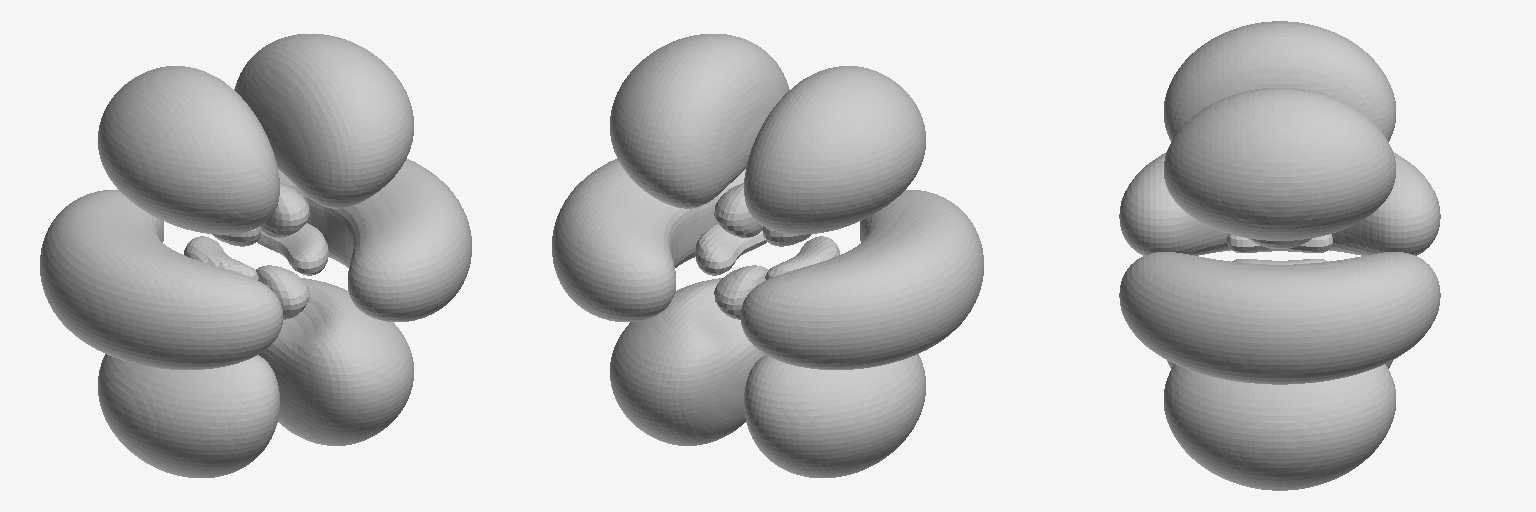
Rendered from orb_n=5_ l=3 _m=1.obj.
The picture shows the model from 3 angles: view 1: azimuth 30°, elevation 25°; view 2: azimuth 150°, elevation 25°; view 3: azimuth 270°, elevation 25°; orthographic projection.
Parts seen in each view (by area): view 1: orb_n=5__l=3__m=1; view 2: orb_n=5__l=3__m=1; view 3: orb_n=5__l=3__m=1.
Part boxes in pixels (left/top/right/bottom): orb_n=5__l=3__m=1: left=40, top=34, right=471, bottom=477; orb_n=5__l=3__m=1: left=552, top=34, right=983, bottom=477; orb_n=5__l=3__m=1: left=1119, top=21, right=1440, bottom=490.
Size of the model in its own units: 105 by 102 by 76.2.